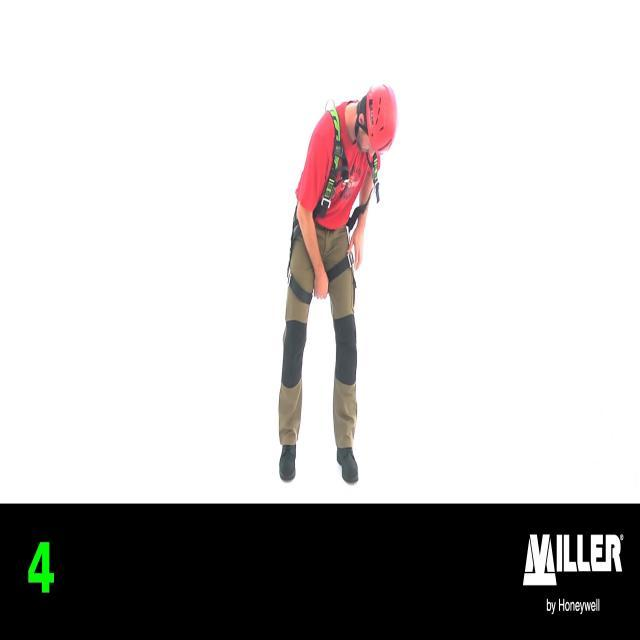belt: (270, 88, 383, 298), (36, 6, 36, 10)
